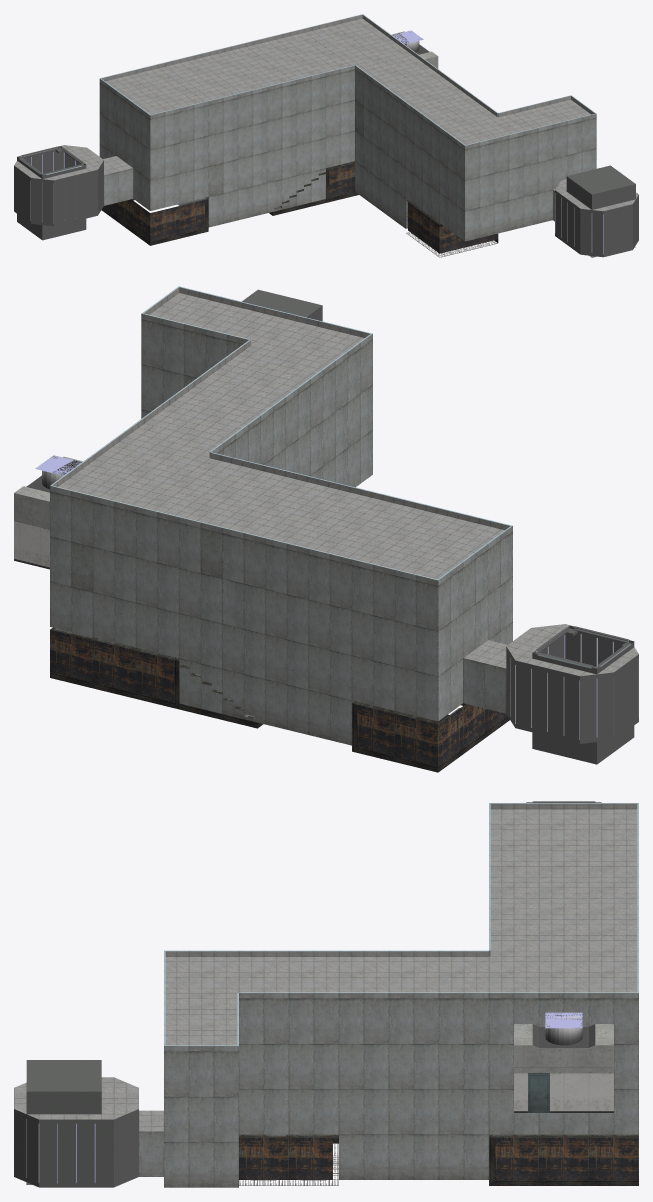
Rendered from Test Chamber.fbx.
3 renders of one model, top to bottom at view 1: azimuth 30°, elevation 25°; view 2: azimuth 150°, elevation 25°; view 3: azimuth 270°, elevation 25°, orthographic. The views are drawn at different scales.
Visible parts, largest first — view 1: world_geometry; view 2: world_geometry; view 3: world_geometry.
Boxes of the visible parts, <box> form: world_geometry: <box>14,14,638,257</box>; world_geometry: <box>14,286,638,772</box>; world_geometry: <box>14,801,638,1187</box>.
Size of the model in its own units: 3658 by 1067 by 3048.
